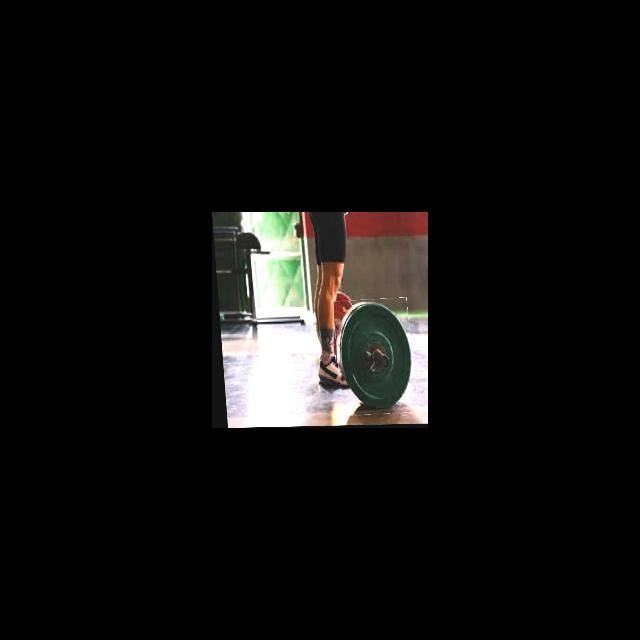barbell: (331, 299, 414, 416)
